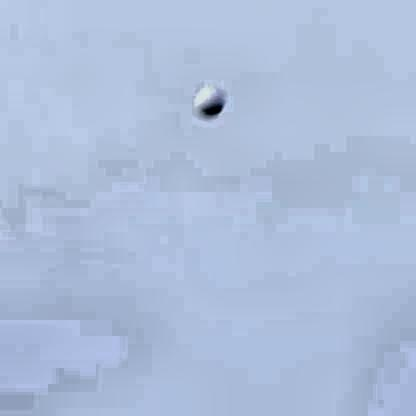golfball: (191, 81, 222, 114)
